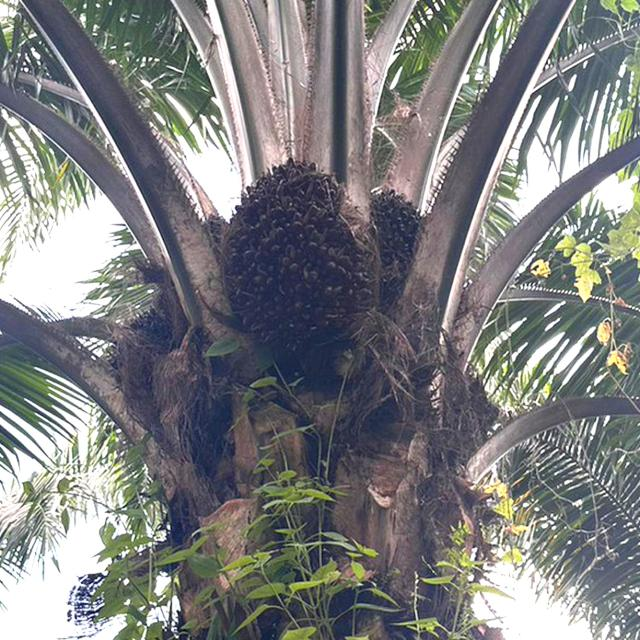unripe: (211, 145, 389, 391), (83, 298, 210, 428), (353, 178, 446, 322)
